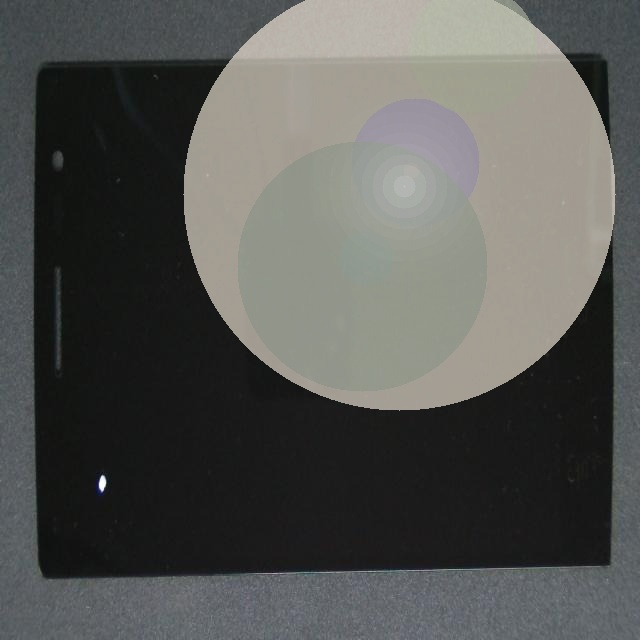stain: (16, 241, 142, 640)
